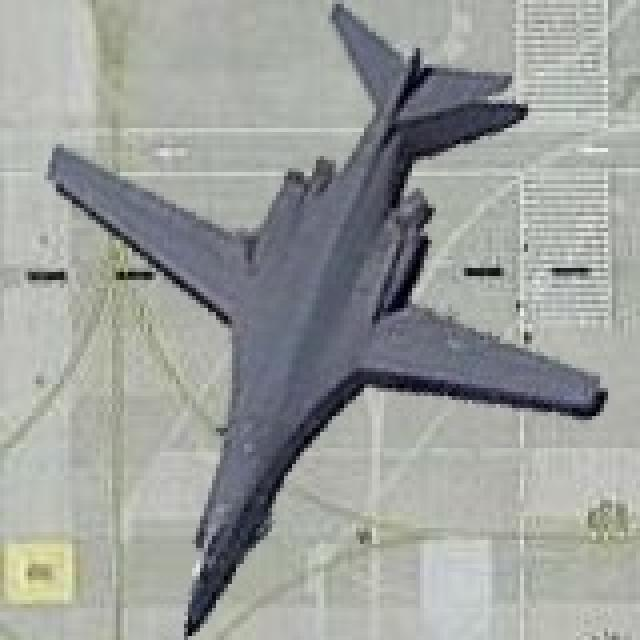B-1_TopDown: (40, 0, 608, 636)
